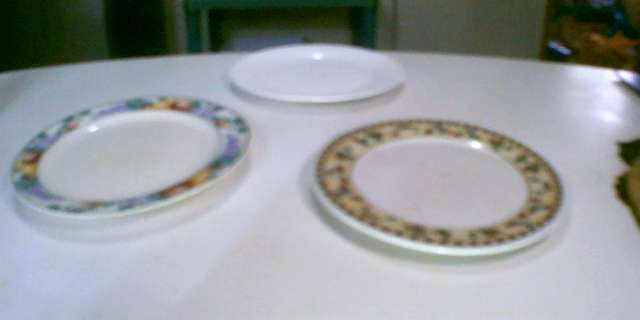empty_plate: (302, 107, 572, 263), (4, 87, 255, 225), (225, 36, 408, 106)
